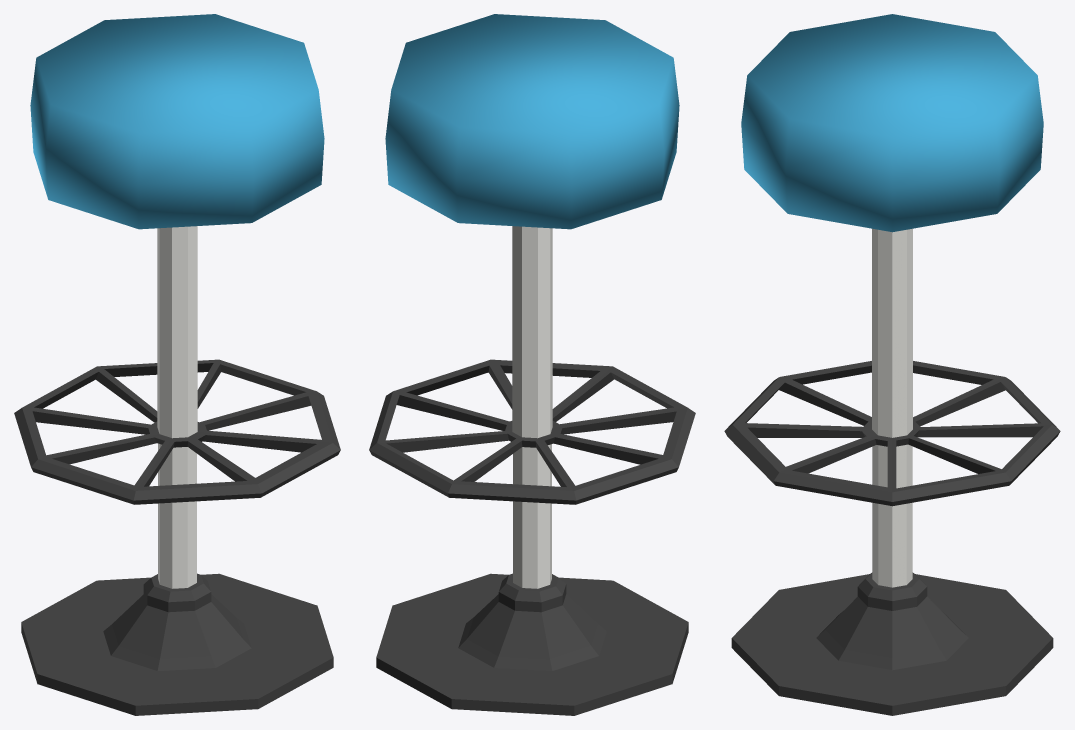
Rendered from TabureteBar.fbx.
3 renders of one model, left to right at view 1: azimuth 30°, elevation 25°; view 2: azimuth 150°, elevation 25°; view 3: azimuth 270°, elevation 25°, orthographic.
Parts seen in each view (by area): view 1: Cylinder.007; view 2: Cylinder.007; view 3: Cylinder.007.
Boxes of the visible parts, x1=… form: Cylinder.007: x1=14, y1=14, x2=340, y2=715; Cylinder.007: x1=369, y1=14, x2=695, y2=715; Cylinder.007: x1=724, y1=14, x2=1060, y2=715.
Bounding box in the file's own units: 0.2165 × 0.4068 × 0.2165.
